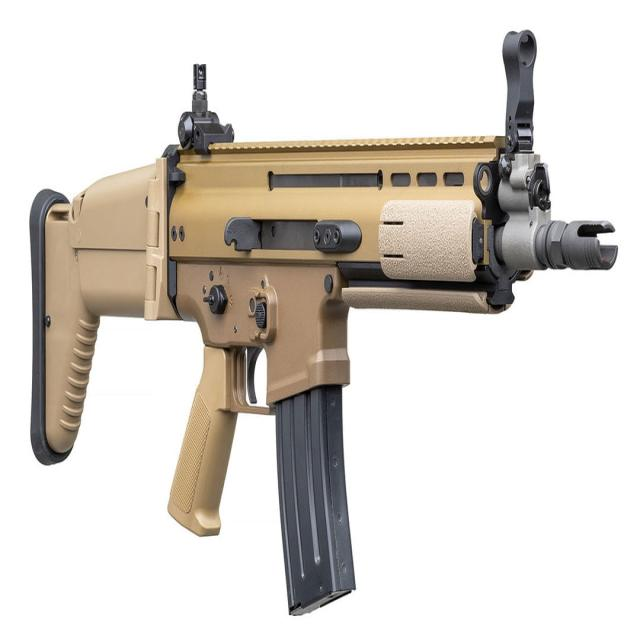Rifle: (28, 30, 621, 616)
